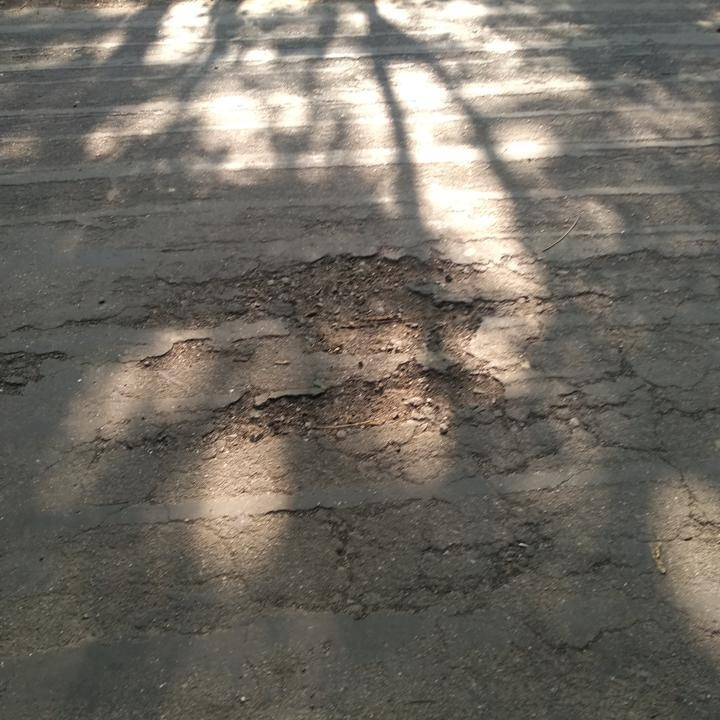pothole: (231, 249, 494, 358), (210, 362, 509, 456)
